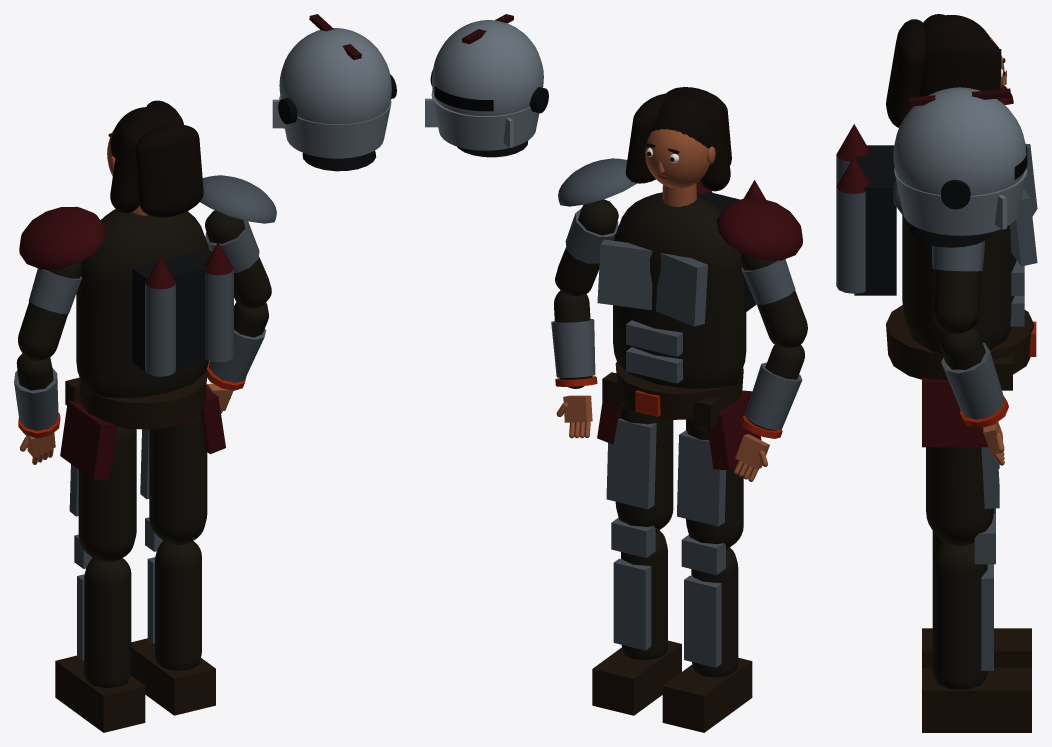
The model's file is hunter.obj.
3 views of the same model, side by side, from view 1: azimuth 30°, elevation 25°; view 2: azimuth 150°, elevation 25°; view 3: azimuth 270°, elevation 25° (orthographic). The views are drawn at different scales.
Visible parts, largest first — view 1: Spine_suit_capsule_1, Helmet_helmet_shell_sphere_1, Hip_R_suit_capsule_1, Knee_L_suit_capsule_1, Hip_L_suit_capsule_1, Knee_R_suit_capsule_1, Head_hair_capsule_1, Spine_dark_box_1, Spine_maroon_sphere_1, Knee_L_leather_box_1, Body_leather_cylinder_1, Knee_R_leather_box_1 (+20 smaller); view 2: Spine_suit_capsule_1, Helmet_helmet_shell_sphere_1, Knee_L_leather_box_1, Knee_R_leather_box_1, Spine_maroon_sphere_1, Hip_R_steel_box_1, Hip_L_steel_box_1, Spine_steel_box_2, Knee_R_steel_box_2, Helmet_helmet_shell_cylinder_1, Knee_L_steel_box_2, Hip_R_suit_capsule_1 (+30 smaller); view 3: Helmet_helmet_shell_sphere_1, Knee_R_suit_capsule_1, Spine_suit_capsule_1, Knee_R_leather_box_1, Hip_R_suit_capsule_1, Spine_dark_box_1, Head_hair_capsule_1.001, Helmet_helmet_shell_cylinder_1, Body_leather_cylinder_1, Body_maroon_box_2, Jetpack_R_steel_cylinder_1, Head_hair_capsule_1 (+22 smaller).
Part boxes in pixels (x1,y1,x2,y2): Spine_suit_capsule_1: (76, 209, 208, 398); Helmet_helmet_shell_sphere_1: (279, 28, 391, 124); Hip_R_suit_capsule_1: (149, 413, 207, 544); Knee_L_suit_capsule_1: (84, 558, 131, 687); Hip_L_suit_capsule_1: (78, 427, 136, 562); Knee_R_suit_capsule_1: (155, 540, 201, 670); Head_hair_capsule_1: (135, 124, 203, 217); Spine_dark_box_1: (132, 249, 212, 375); Spine_maroon_sphere_1: (19, 206, 105, 269); Knee_L_leather_box_1: (55, 655, 145, 732); Body_leather_cylinder_1: (79, 371, 207, 429); Knee_R_leather_box_1: (130, 638, 215, 715); Spine_suit_capsule_1: (613, 192, 746, 388); Helmet_helmet_shell_sphere_1: (432, 20, 543, 115); Knee_L_leather_box_1: (662, 657, 752, 732); Knee_R_leather_box_1: (592, 640, 681, 715); Spine_maroon_sphere_1: (716, 198, 802, 260); Hip_R_steel_box_1: (606, 418, 656, 509); Hip_L_steel_box_1: (677, 430, 726, 526); Spine_steel_box_2: (597, 239, 652, 309); Knee_R_steel_box_2: (613, 558, 651, 650); Helmet_helmet_shell_cylinder_1: (431, 90, 539, 150); Knee_L_steel_box_2: (684, 575, 721, 667); Hip_R_suit_capsule_1: (615, 405, 673, 532); Helmet_helmet_shell_sphere_1: (893, 87, 1026, 195); Knee_R_suit_capsule_1: (932, 541, 987, 689); Spine_suit_capsule_1: (902, 215, 1016, 353); Knee_R_leather_box_1: (922, 667, 1031, 732); Hip_R_suit_capsule_1: (926, 447, 993, 545); Spine_dark_box_1: (854, 145, 896, 295); Head_hair_capsule_1.001: (919, 31, 1001, 100); Helmet_helmet_shell_cylinder_1: (894, 168, 1027, 235); Body_leather_cylinder_1: (886, 305, 1033, 380); Body_maroon_box_2: (922, 377, 988, 447); Jetpack_R_steel_cylinder_1: (836, 187, 865, 293); Head_hair_capsule_1: (886, 19, 925, 127).
Size of the model in its own units: 1.15 by 1.87 by 0.4752.
